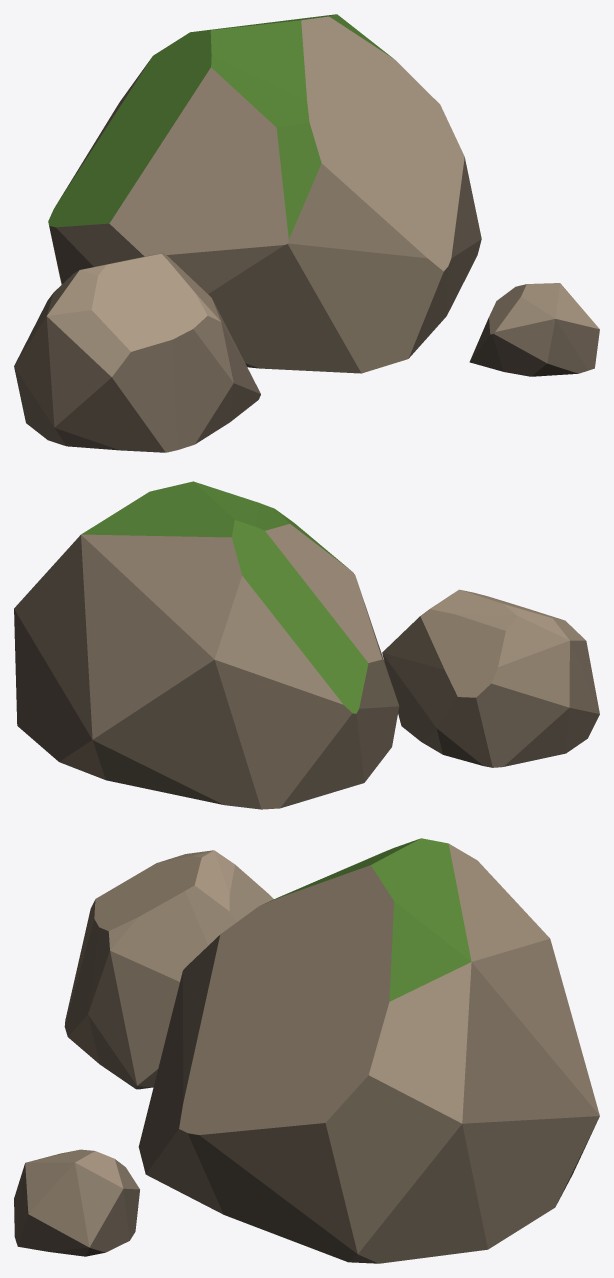
The model's file is rock_a.fbx.
3 renders of one model, top to bottom at view 1: azimuth 30°, elevation 25°; view 2: azimuth 150°, elevation 25°; view 3: azimuth 270°, elevation 25°, orthographic. The views are drawn at different scales.
Parts seen in each view (by area): view 1: rock_a; view 2: rock_a; view 3: rock_a.
Part boxes in pixels (box(x1,y1,x2,y2)): rock_a: box(14, 14, 599, 452); rock_a: box(14, 481, 599, 809); rock_a: box(14, 838, 599, 1263).
Size of the model in its own units: 5.96 by 2.9 by 5.05.
